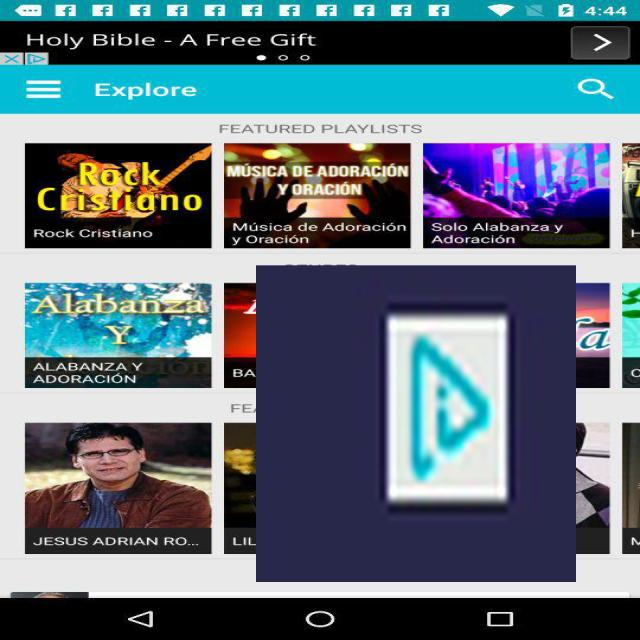sneaking: (256, 265, 576, 582)
